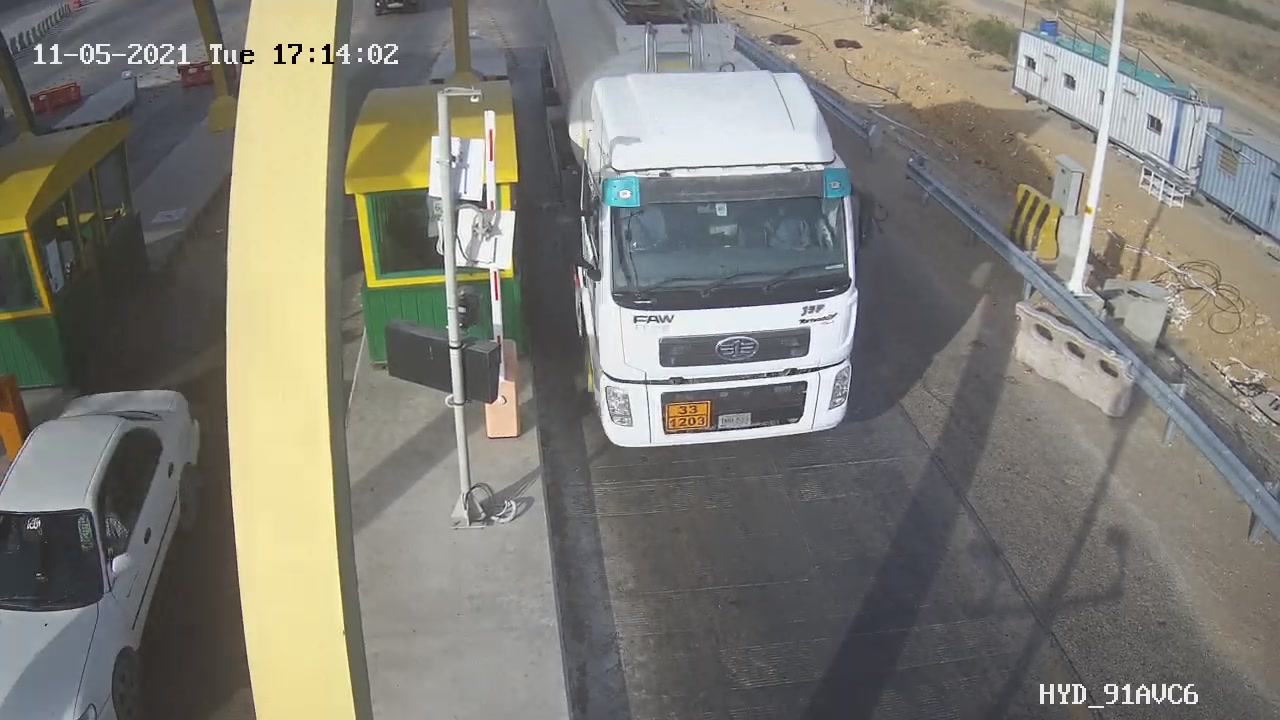F6: (517, 1, 905, 474)
